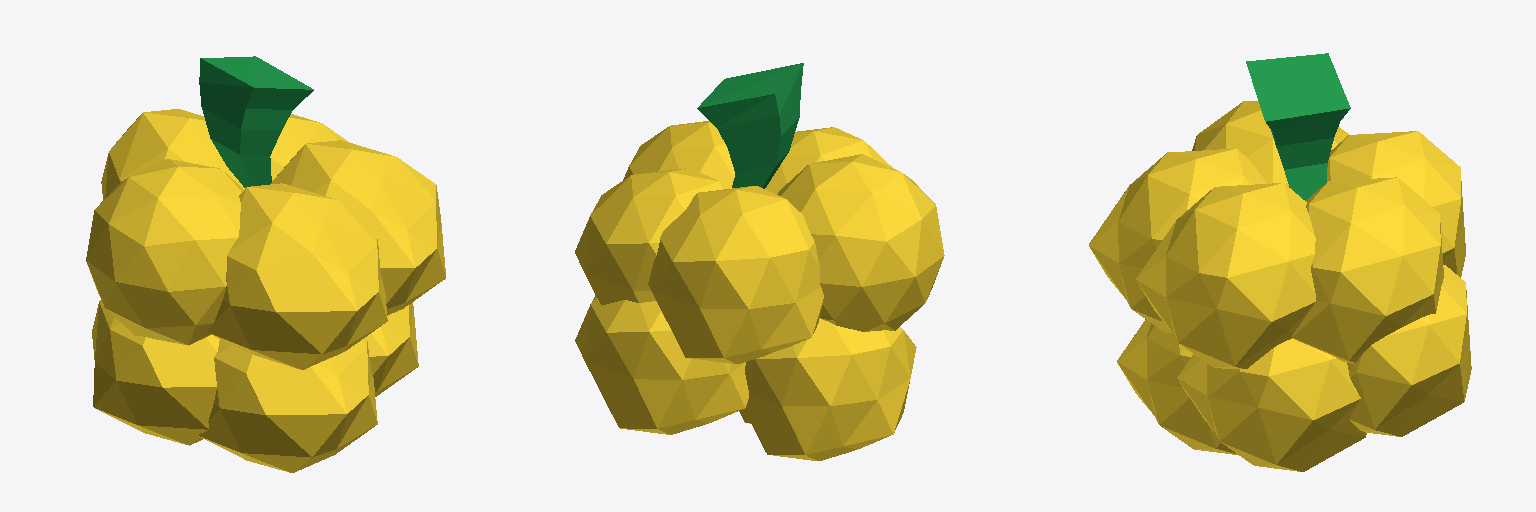
3 renders of one model, left to right at view 1: azimuth 30°, elevation 25°; view 2: azimuth 150°, elevation 25°; view 3: azimuth 270°, elevation 25°, orthographic.
Parts seen in each view (by area): view 1: Icosphere.007, Icosphere.005, Icosphere.001, Icosphere.003, Icosphere.008, Plane, Icosphere.009_Icosphere.010, Icosphere, Icosphere.006_Icosphere.009; view 2: Icosphere.009_Icosphere.010, Icosphere.005, Icosphere.008, Icosphere.004, Icosphere.006_Icosphere.009, Plane, Icosphere.003, Icosphere.007; view 3: Icosphere.003, Icosphere.006_Icosphere.009, Icosphere, Icosphere.004, Icosphere.007, Plane, Icosphere.009_Icosphere.010, Icosphere.001, Icosphere.005.
Boxes of the visible parts, x1,y1,x2,y2 form: Icosphere.007: [207, 183, 387, 369]; Icosphere.005: [86, 159, 243, 345]; Icosphere.001: [197, 338, 377, 472]; Icosphere.003: [271, 140, 445, 315]; Icosphere.008: [92, 300, 219, 445]; Plane: [199, 56, 313, 187]; Icosphere.009_Icosphere.010: [101, 109, 244, 199]; Icosphere: [365, 302, 418, 396]; Icosphere.006_Icosphere.009: [270, 114, 349, 180]; Icosphere.009_Icosphere.010: [648, 186, 823, 363]; Icosphere.005: [777, 154, 944, 331]; Icosphere.008: [744, 318, 916, 460]; Icosphere.004: [575, 295, 748, 434]; Icosphere.006_Icosphere.009: [575, 168, 726, 305]; Plane: [697, 63, 803, 188]; Icosphere.003: [623, 121, 734, 188]; Icosphere.007: [765, 127, 892, 194]; Icosphere.003: [1136, 183, 1315, 368]; Icosphere.006_Icosphere.009: [1292, 177, 1443, 362]; Icosphere: [1177, 338, 1366, 471]; Icosphere.004: [1347, 265, 1471, 436]; Icosphere.007: [1089, 149, 1266, 332]; Plane: [1246, 53, 1350, 200]; Icosphere.009_Icosphere.010: [1327, 131, 1465, 277]; Icosphere.001: [1117, 319, 1237, 454]; Icosphere.005: [1192, 101, 1348, 186].
Size of the model in its own units: 1.94 by 2.19 by 2.03.
Materials: 2 (2 with a texture image).